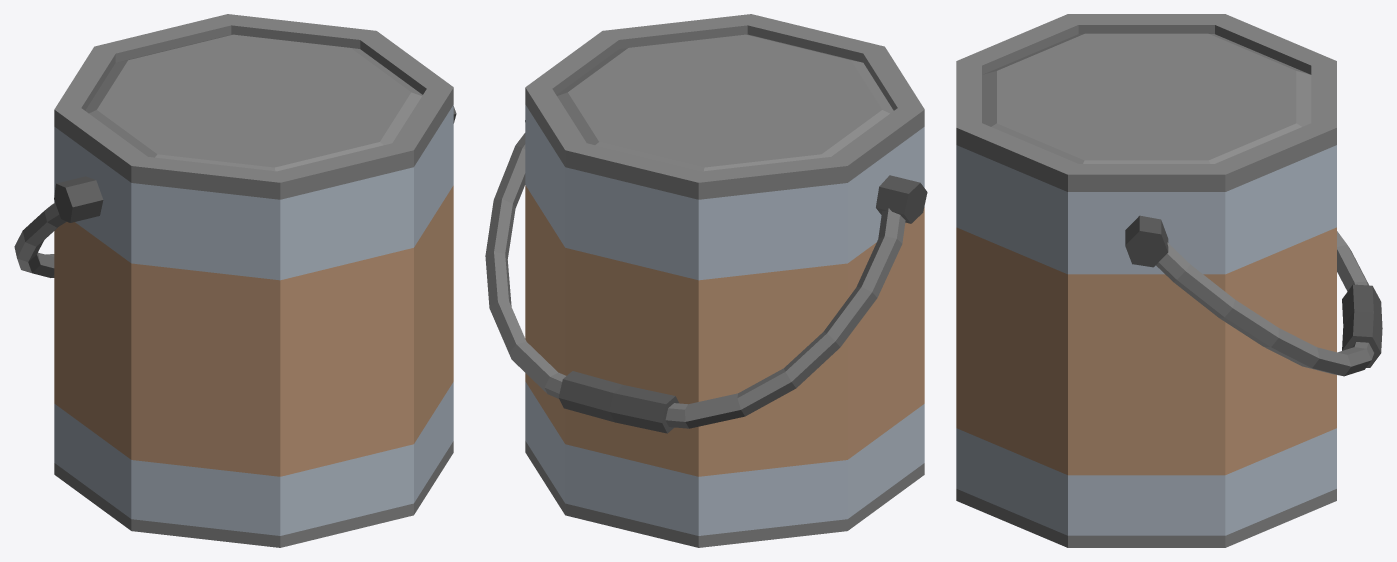
File: Dye_01.fbx
The picture shows the model from 3 angles, left to right: view 1: azimuth 30°, elevation 25°; view 2: azimuth 150°, elevation 25°; view 3: azimuth 270°, elevation 25°; orthographic projection. The views are drawn at different scales.
Parts seen in each view (by area): view 1: Dye_01; view 2: Dye_01; view 3: Dye_01.
Part boxes in pixels (bbox=[...]): Dye_01: bbox=[14, 14, 456, 547]; Dye_01: bbox=[485, 14, 927, 547]; Dye_01: bbox=[956, 14, 1382, 547].
Bounding box in the file's own units: 26.62 × 24.17 × 25.01.
